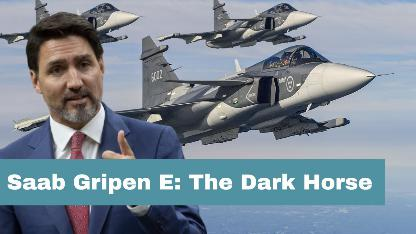JAS39: (114, 35, 394, 146), (156, 0, 326, 48), (0, 0, 148, 44)
